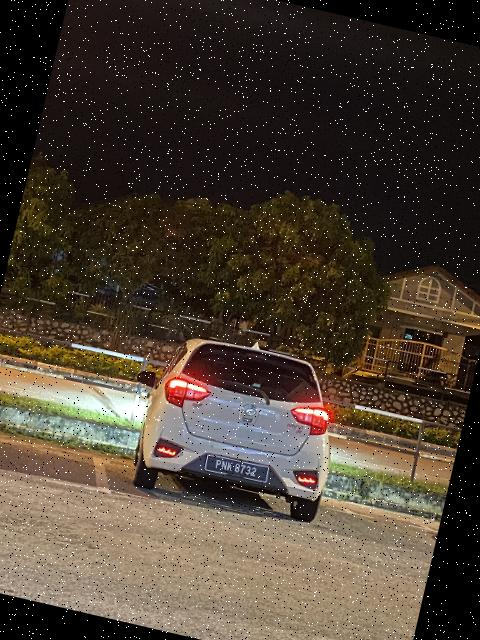License_Plate: (203, 455, 272, 488)
car: (116, 314, 355, 535)
